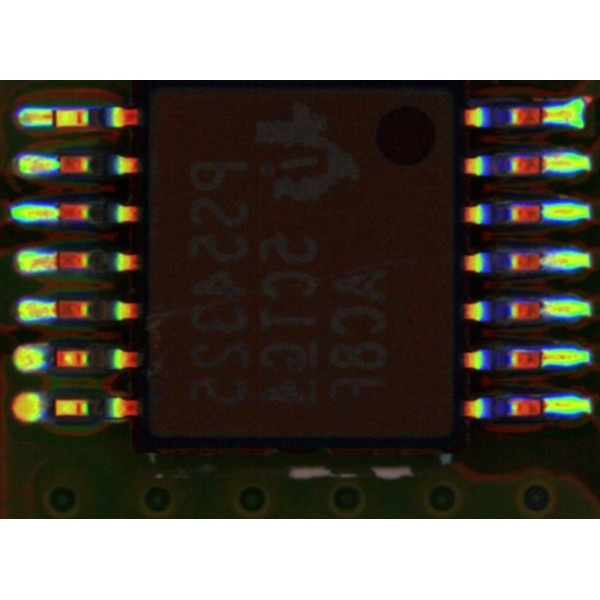Bad_podu: (528, 110, 562, 121), (534, 350, 559, 364), (44, 109, 61, 125), (46, 257, 67, 266)
